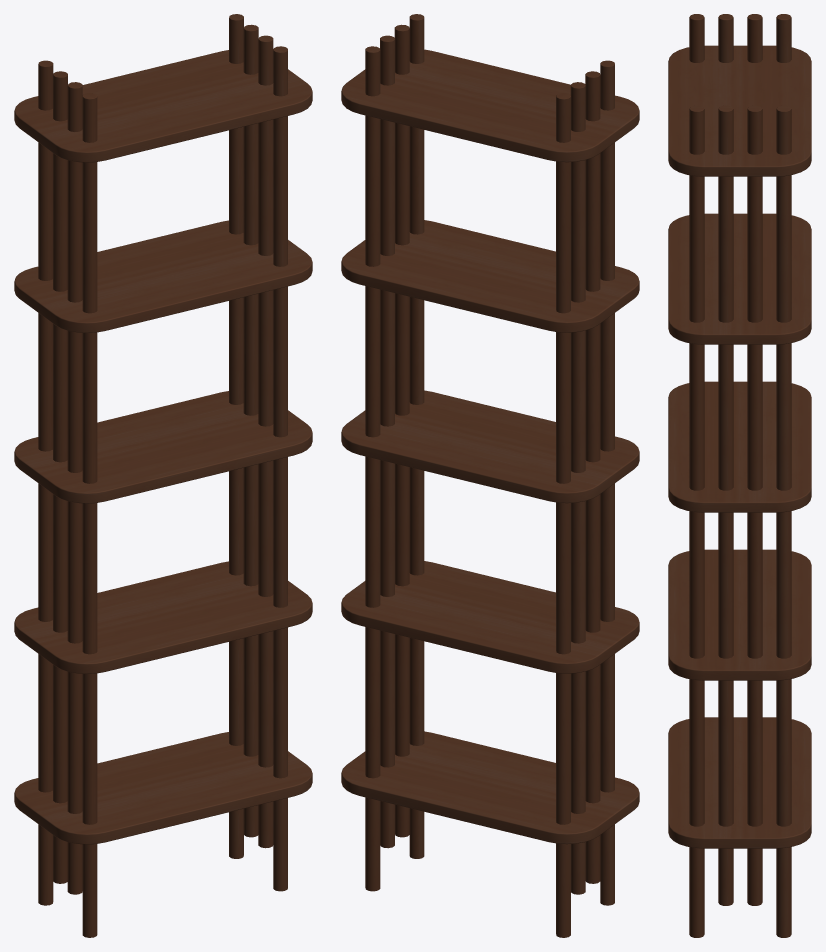
File: BlibliotecaBarras.glb
3 renders of one model, left to right at view 1: azimuth 30°, elevation 25°; view 2: azimuth 150°, elevation 25°; view 3: azimuth 270°, elevation 25°, orthographic.
Visible parts, largest first — view 1: BlibliotecaBarras_GEO; view 2: BlibliotecaBarras_GEO; view 3: BlibliotecaBarras_GEO.
Part boxes in pixels (x1,y1,x2,y2): BlibliotecaBarras_GEO: (14, 14, 312, 937); BlibliotecaBarras_GEO: (341, 14, 639, 937); BlibliotecaBarras_GEO: (668, 14, 811, 937).
Bounding box in the file's own units: 0.5029 × 1.6 × 0.2511.
1 material, 1 textured.
